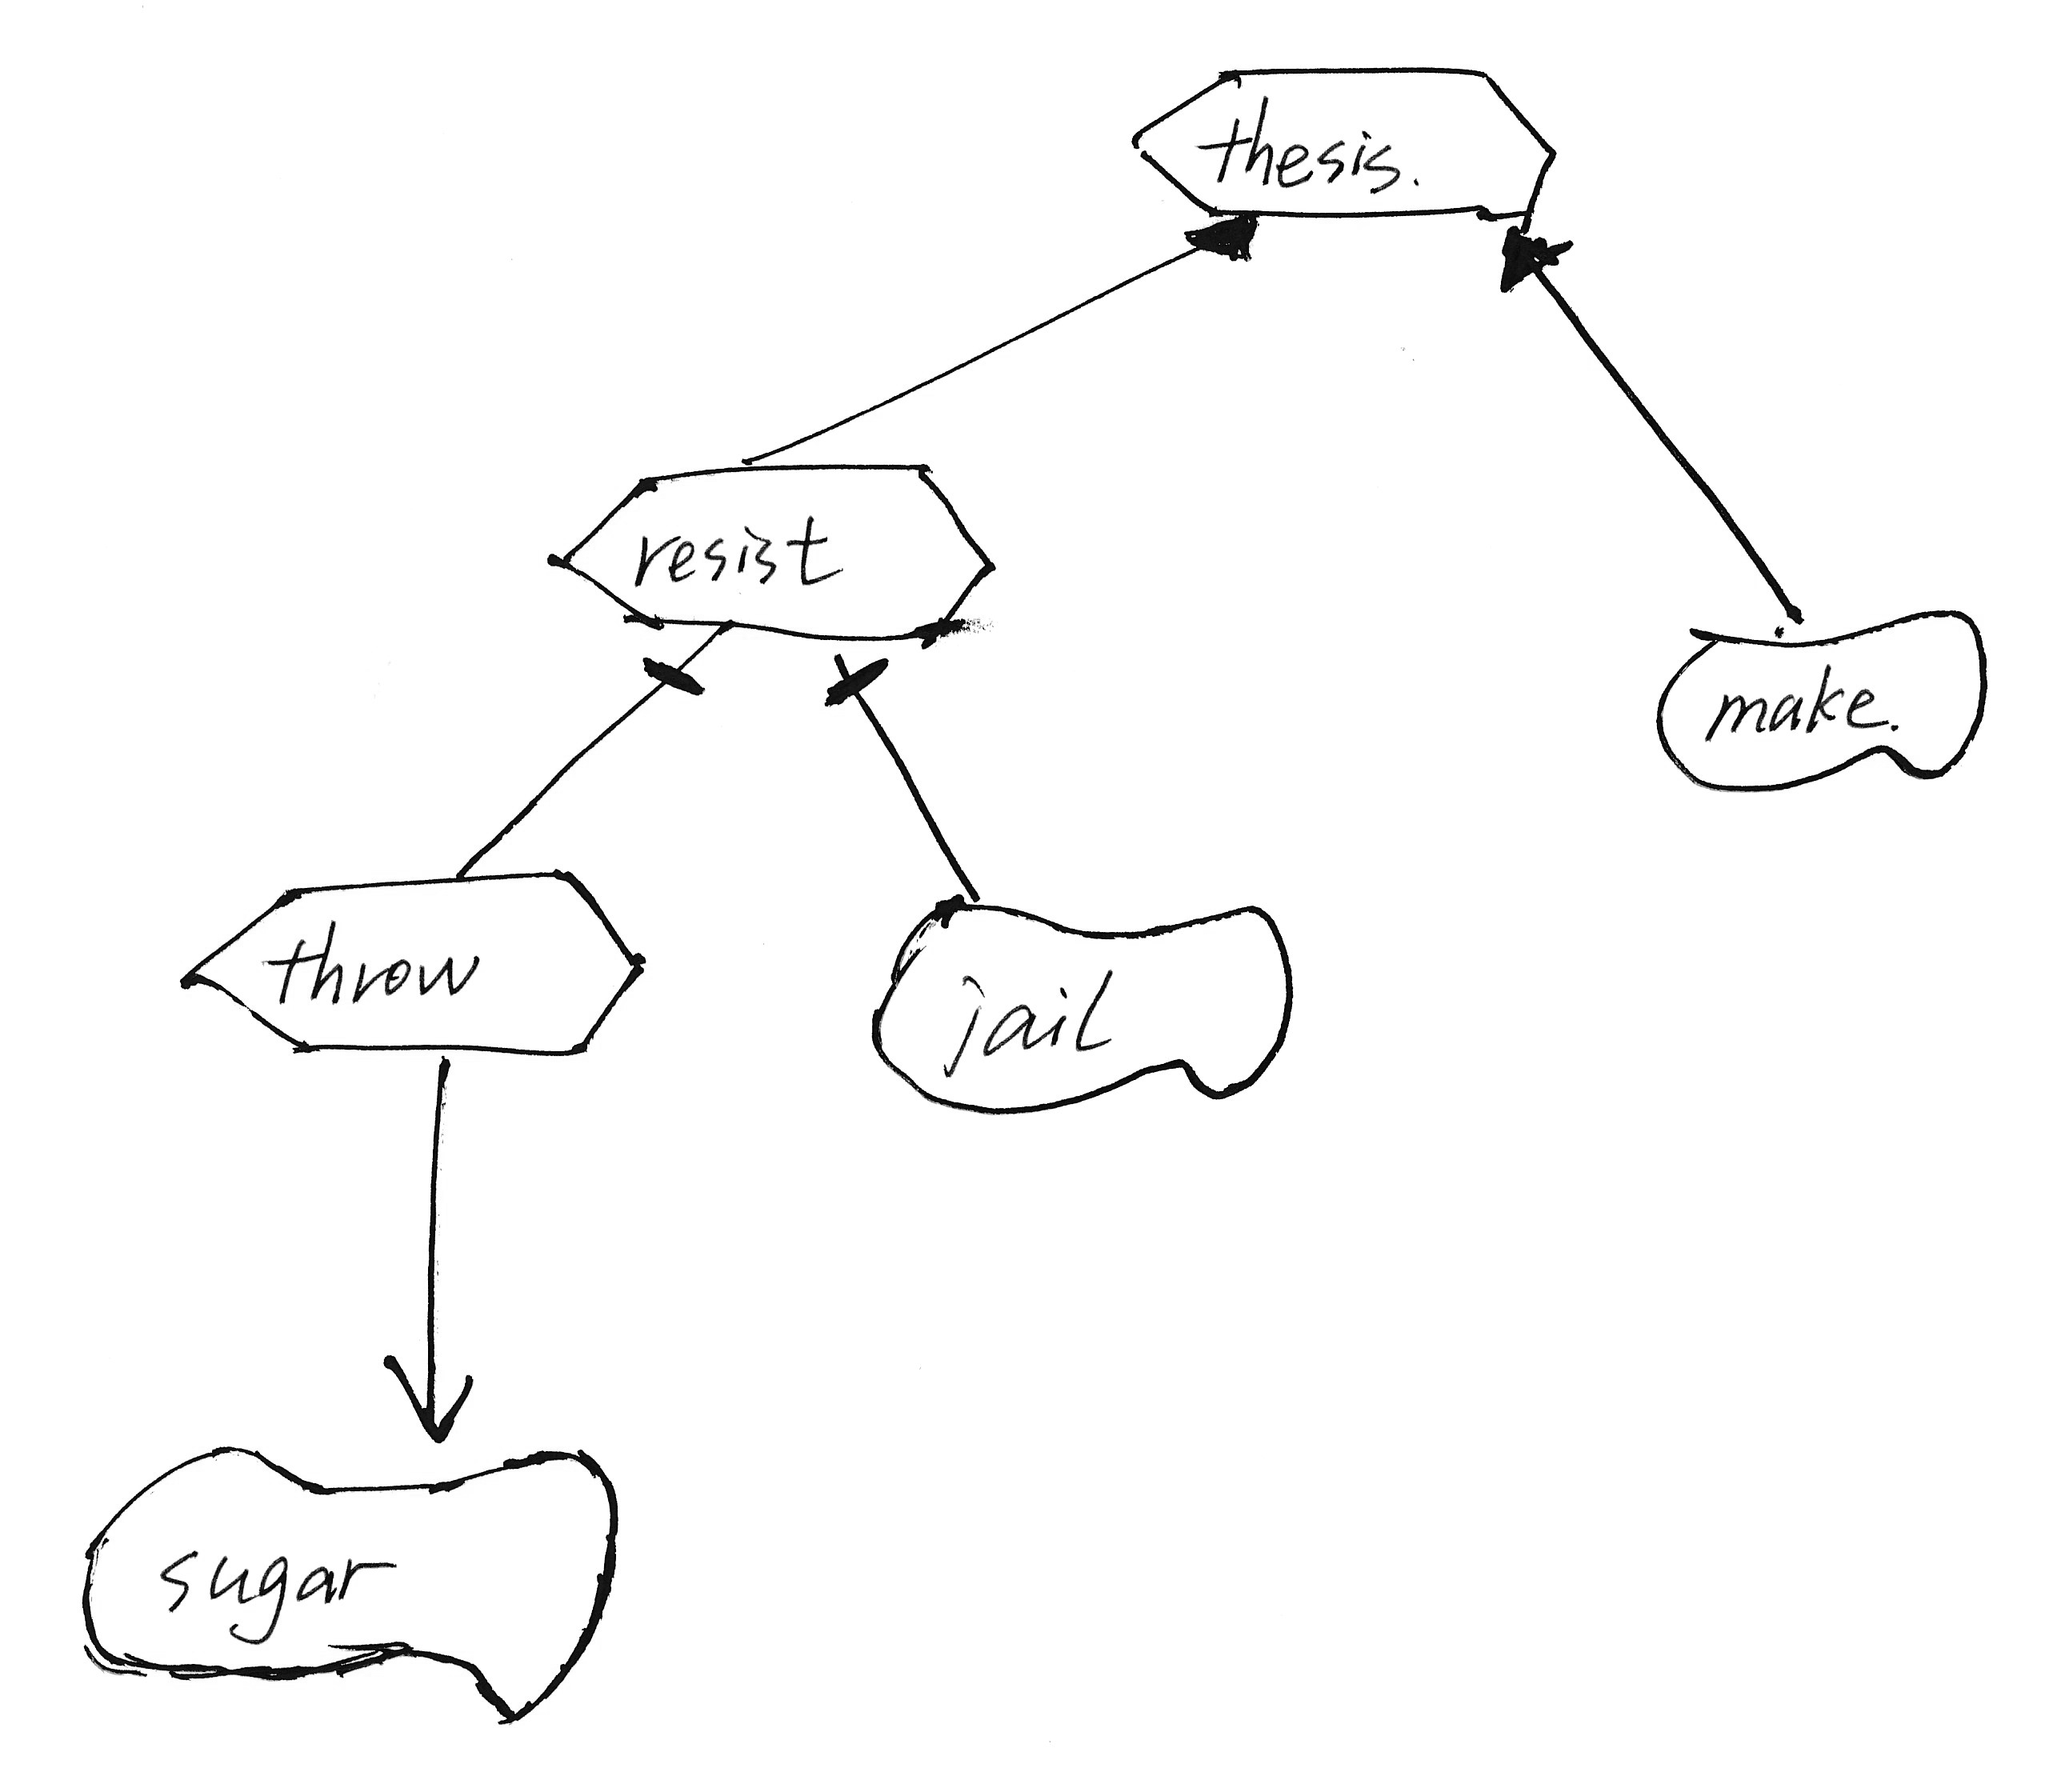and: (631, 615, 747, 713), (817, 643, 908, 717)
arrow: (373, 1346, 499, 1453)
or: (1482, 208, 1586, 301), (1174, 198, 1282, 271)
quality: (66, 1428, 638, 1736), (852, 874, 1317, 1124), (1635, 594, 2001, 804)
task: (168, 858, 659, 1077), (530, 444, 1006, 656), (1116, 49, 1576, 238)
